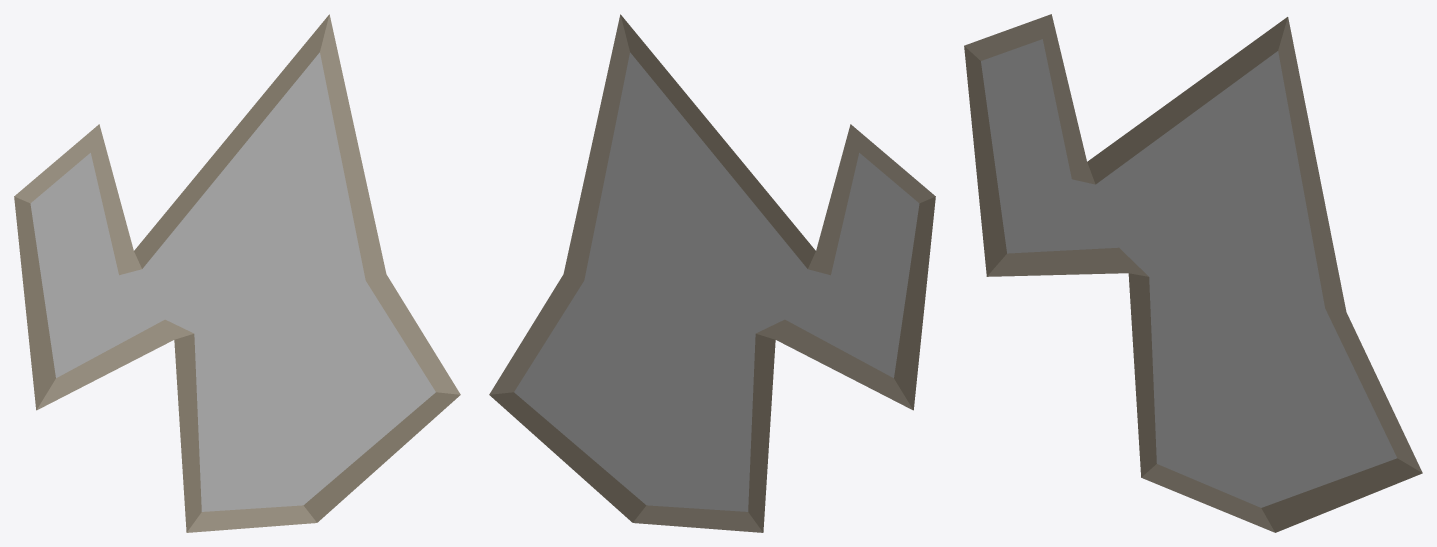
Rendered from ShellRiddlesPuzzlePieceG.glb.
3 renders of one model, left to right at view 1: azimuth 30°, elevation 25°; view 2: azimuth 150°, elevation 25°; view 3: azimuth 330°, elevation 25°, orthographic. The views are drawn at different scales.
Visible parts, largest first — view 1: ShellRiddlesPuzzlePieceG; view 2: ShellRiddlesPuzzlePieceG; view 3: ShellRiddlesPuzzlePieceG.
Boxes of the visible parts, bbox=[...] form: ShellRiddlesPuzzlePieceG: bbox=[14, 14, 460, 532]; ShellRiddlesPuzzlePieceG: bbox=[489, 14, 935, 532]; ShellRiddlesPuzzlePieceG: bbox=[964, 14, 1422, 532].
Size of the model in its own units: 0.44 by 0.4762 by 0.
